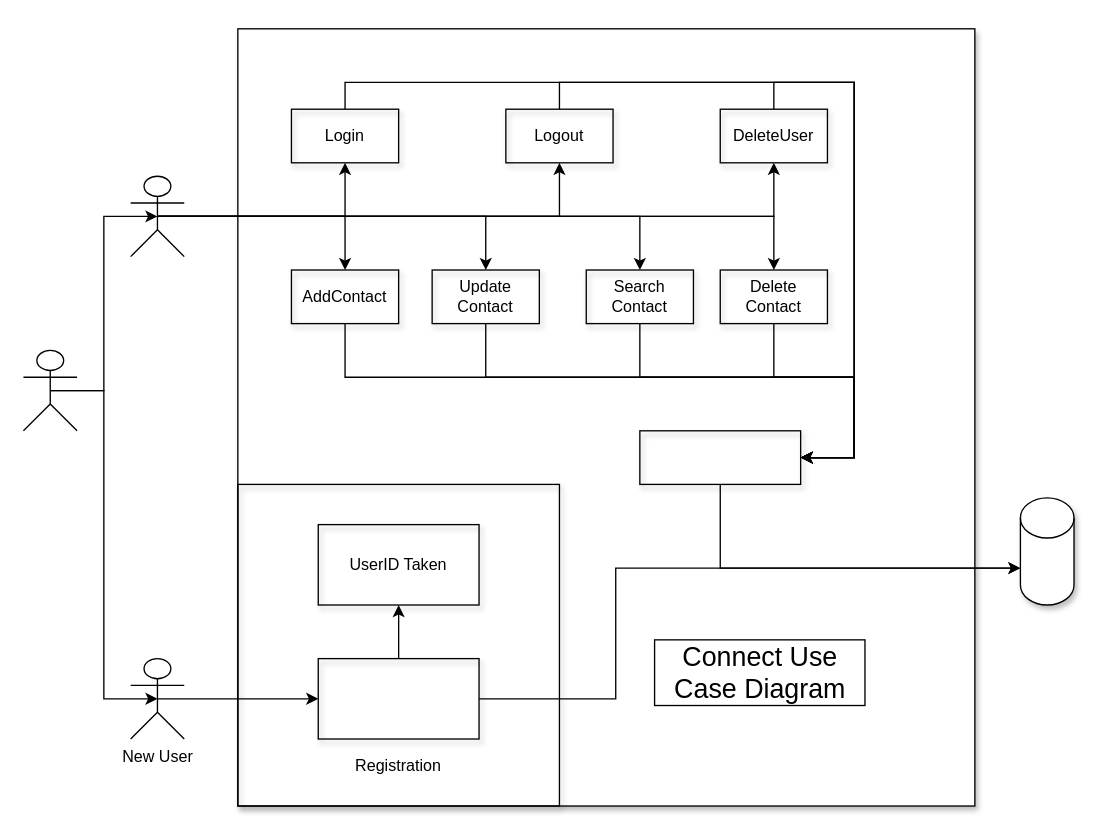
The diagram is 1106 pixels wide and 839 high, and some of its shapes have lost their labels. The centre of each missing label's shape, as x and y in pixels:
"Authenticate" goes at pixel 721 459.
"Existing User" goes at pixel 156 216.
"Register" goes at pixel 399 700.
"User" goes at pixel 49 390.
